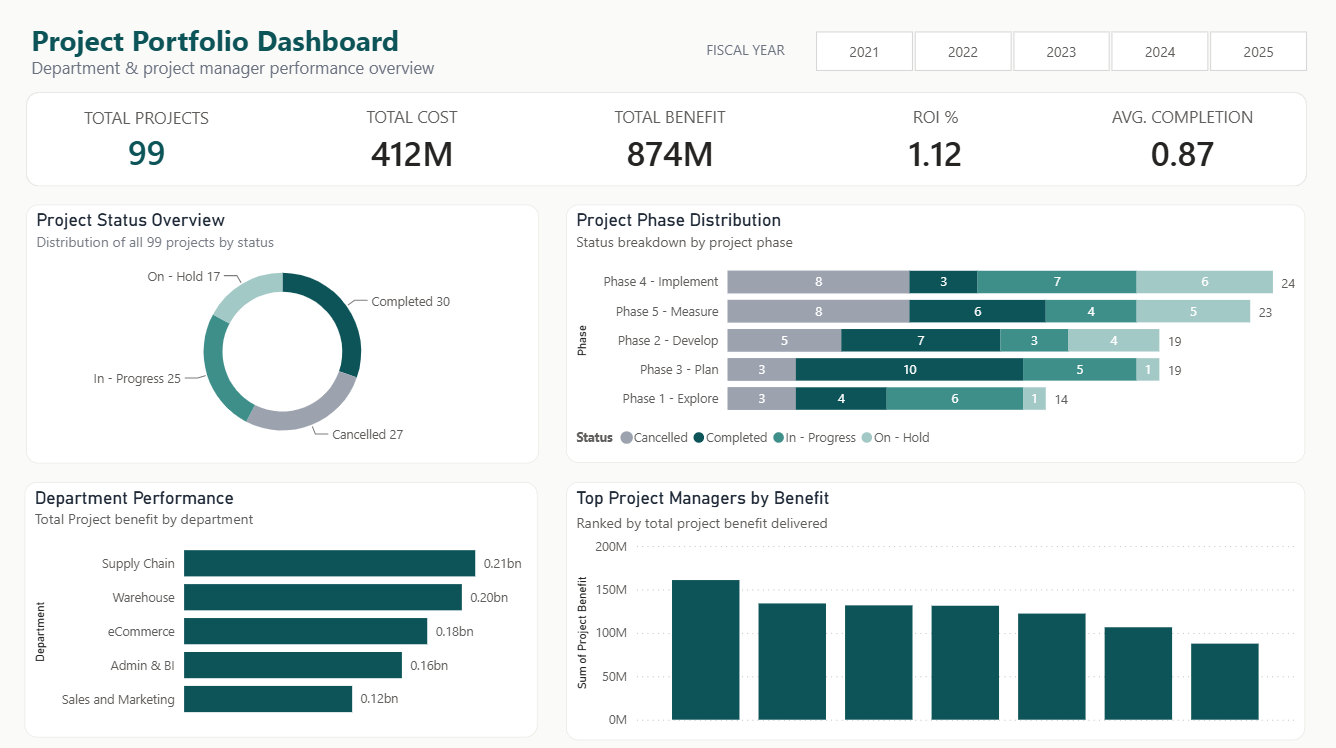

Layout of this report page (visuals, bound fields, positions):
{"tool":"powerbi","page":{"name":"Page 1","canvas":[1280,720],"ordinal":0},"visuals":[{"type":"shape","box":[28.3,88.3,1220,90],"z":0},{"type":"cardVisual","fields":{"Data":["Projects.Total Projects"]},"box":[45,88,198.3,90],"z":1000},{"type":"cardVisual","fields":{"Data":["Projects.Total Cost"]},"box":[296.7,88,198.3,90],"z":2000},{"type":"cardVisual","fields":{"Data":["Projects.Total Benefit"]},"box":[543.3,88,198.3,90],"z":3000},{"type":"cardVisual","fields":{"Data":["Projects.ROI %"]},"box":[795,88,198.3,90],"z":4000},{"type":"cardVisual","fields":{"Data":["Projects.Avg Completion"]},"box":[1030,88,200,90],"z":5000},{"type":"donutChart","title":"Project Status Overview","fields":{"Category":["Projects.Status"],"Y":["CountNonNull(Projects.Status)"]},"box":[28.3,195,488.3,246.7],"z":6000},{"type":"barChart","title":"Project Phase Distribution","fields":{"Category":["Projects.Phase"],"Y":["CountNonNull(Projects.Project Name)"],"Series":["Projects.Status"]},"box":[542.9,195.3,704.3,245.7],"z":7000},{"type":"clusteredBarChart","title":"Department Performance","fields":{"Category":["Projects.Department"],"Y":["Sum(Projects. Project Benefit )"]},"box":[26.7,460,488.3,243.3],"z":8000},{"type":"columnChart","title":"Top Project Managers by Benefit","fields":{"Category":["Projects.Project Manager"],"Y":["Sum(Projects. Project Benefit )"]},"box":[542.9,459.6,704.3,245.7],"z":9000},{"type":"textbox","box":[28,16,368,50],"z":10000},{"type":"slicer","fields":{"Values":["Projects.Year"]},"box":[757.7,25.4,515.4,47.7],"z":11000},{"type":"textbox","box":[671.7,33.3,300,33.3],"z":12000},{"type":"textbox","box":[28,48,490,34],"z":13000}]}

Visuals, with their boxes in screenshot pixels (x1, y1, x2, y2), scaled from the page's 1280x720 canvas onto the 1336x748 screenshot:
shape: left=30, top=92, right=1303, bottom=185
cardVisual - Projects.Total Projects: left=47, top=91, right=254, bottom=185
cardVisual - Projects.Total Cost: left=310, top=91, right=517, bottom=185
cardVisual - Projects.Total Benefit: left=567, top=91, right=774, bottom=185
cardVisual - Projects.ROI %: left=830, top=91, right=1037, bottom=185
cardVisual - Projects.Avg Completion: left=1075, top=91, right=1284, bottom=185
"Project Status Overview" donutChart: left=30, top=203, right=539, bottom=459
"Project Phase Distribution" barChart: left=567, top=203, right=1302, bottom=458
"Department Performance" clusteredBarChart: left=28, top=478, right=538, bottom=731
"Top Project Managers by Benefit" columnChart: left=567, top=477, right=1302, bottom=733
textbox: left=29, top=17, right=413, bottom=69
slicer - Projects.Year: left=791, top=26, right=1329, bottom=76
textbox: left=701, top=35, right=1014, bottom=69
textbox: left=29, top=50, right=541, bottom=85
